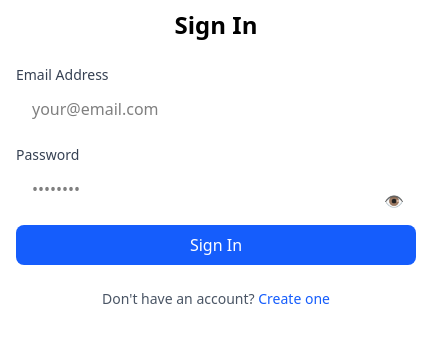
LoginForm › Validation › shows validation error for empty password
This screenshot has width=433, height=345.
Type "test@example.com" into the field labelled "Email Address". click: [216, 109]
box: [16,89,416,129]
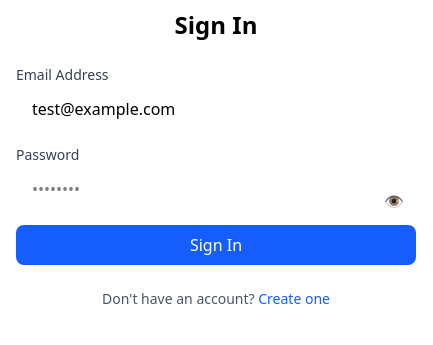
Click the button "Sign In". click: [216, 245]
box: [16,225,416,265]
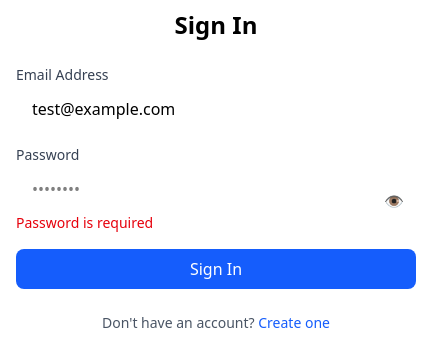
Expected: the text "Password is required" is shown, [16,213,153,232]
